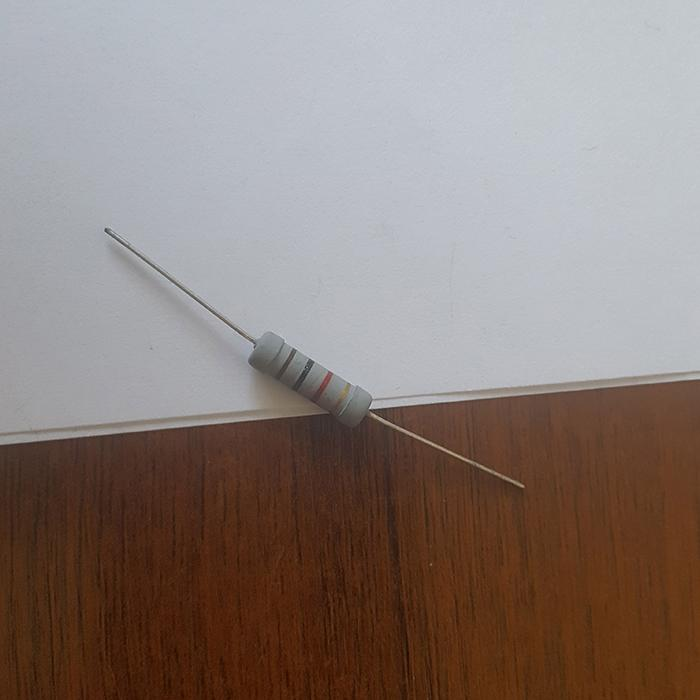resistor: (247, 331, 372, 426)
